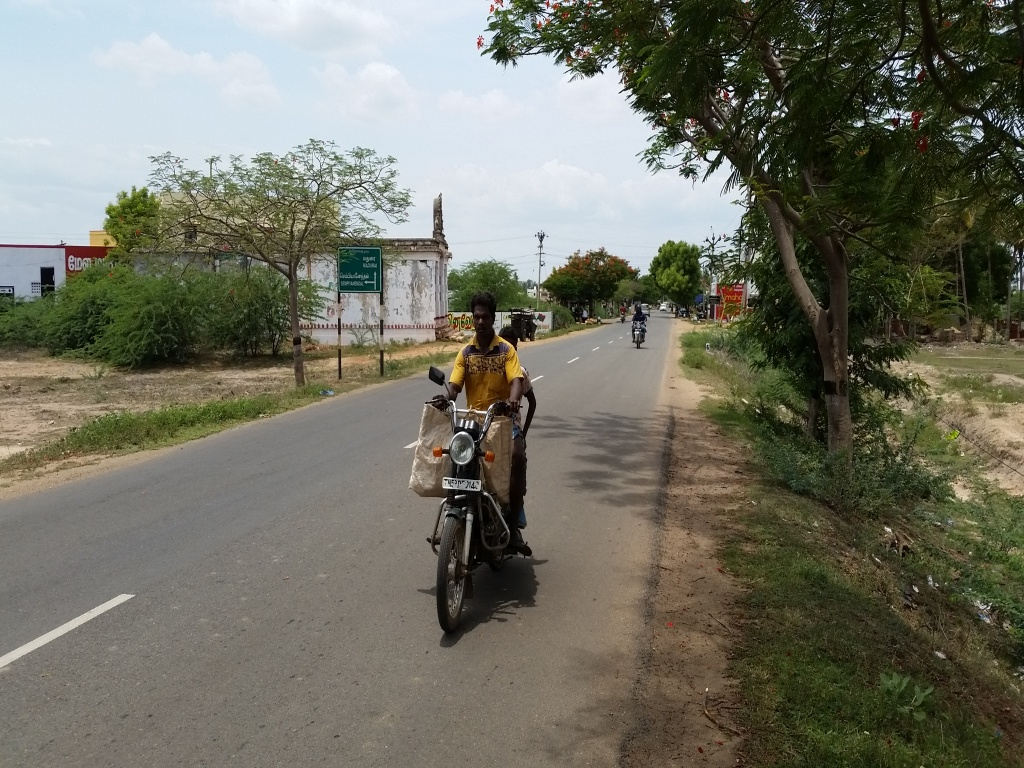biker: (380, 248, 566, 653)
nohelmet: (467, 286, 502, 355), (498, 316, 524, 351)
